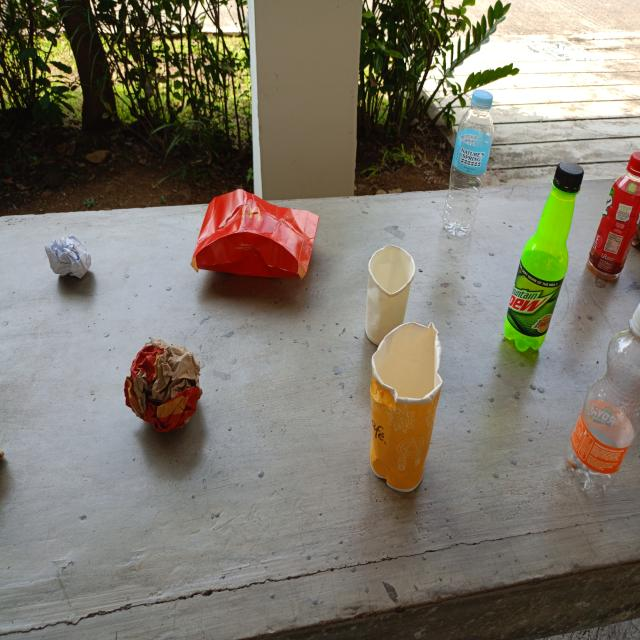Anorganik: (504, 159, 582, 353), (563, 300, 640, 494), (440, 87, 496, 240), (587, 148, 640, 281)
Organik: (367, 320, 445, 494), (188, 192, 320, 283), (123, 336, 202, 432), (363, 244, 418, 347), (42, 234, 94, 278)
